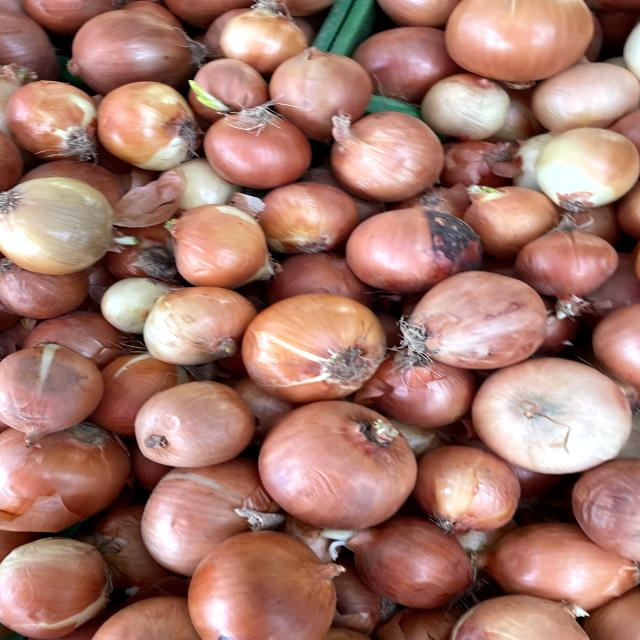onion: (248, 393, 432, 525), (178, 520, 354, 640), (470, 350, 638, 473), (240, 283, 391, 405), (398, 262, 558, 374), (323, 98, 465, 209), (0, 170, 137, 277), (340, 510, 483, 612), (127, 375, 261, 472), (528, 119, 640, 220), (200, 95, 315, 191)
